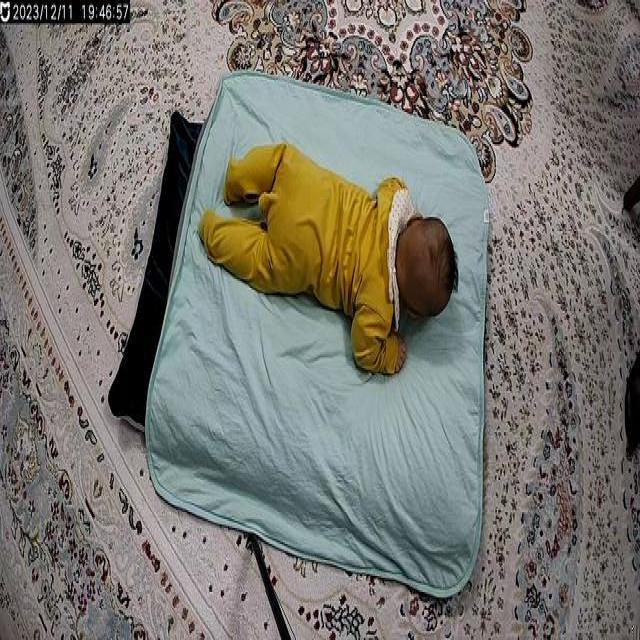baby: (194, 134, 460, 386)
